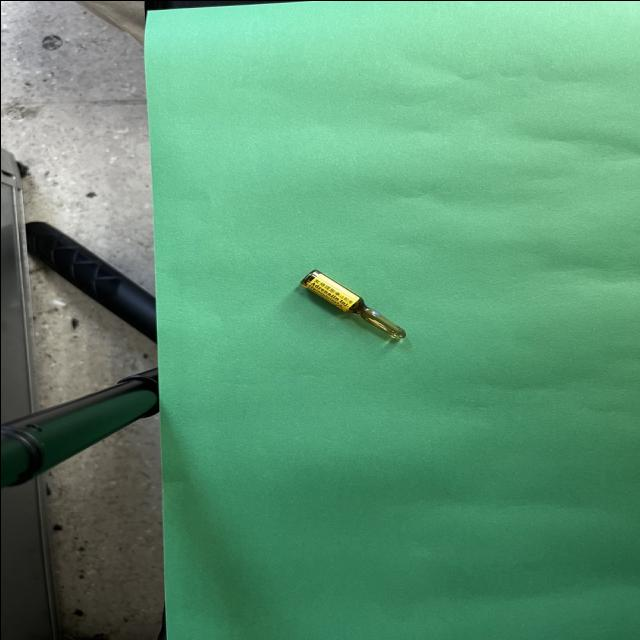Ampoules: (299, 268, 405, 338)
